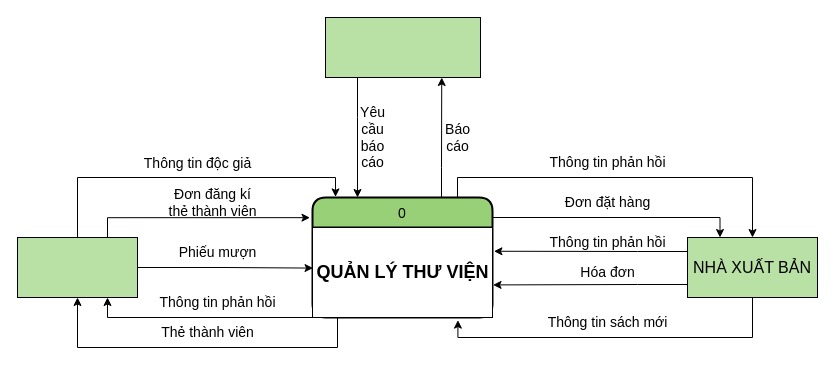
This 835x373 diagram has some shape labels left out. Each missing label, with the box of its shape:
BAN LÃNH ĐẠO: (324, 16, 480, 78)
ĐỘC GIẢ: (16, 236, 138, 298)
